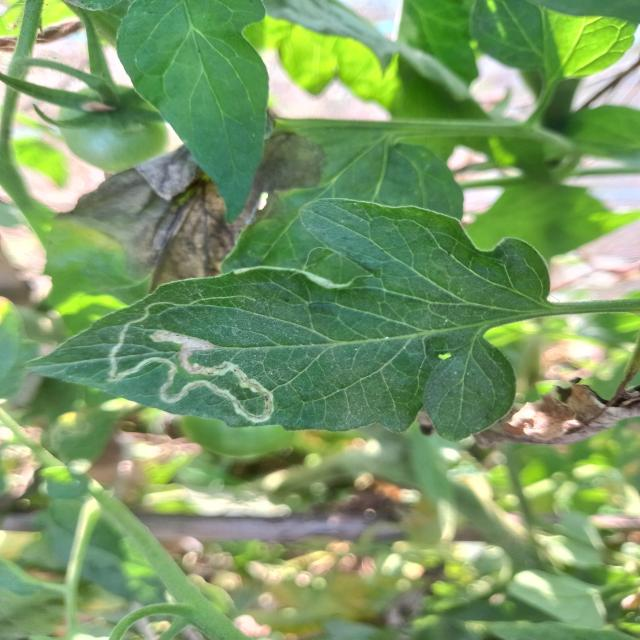Tuta absoluta: (102, 319, 285, 426)
